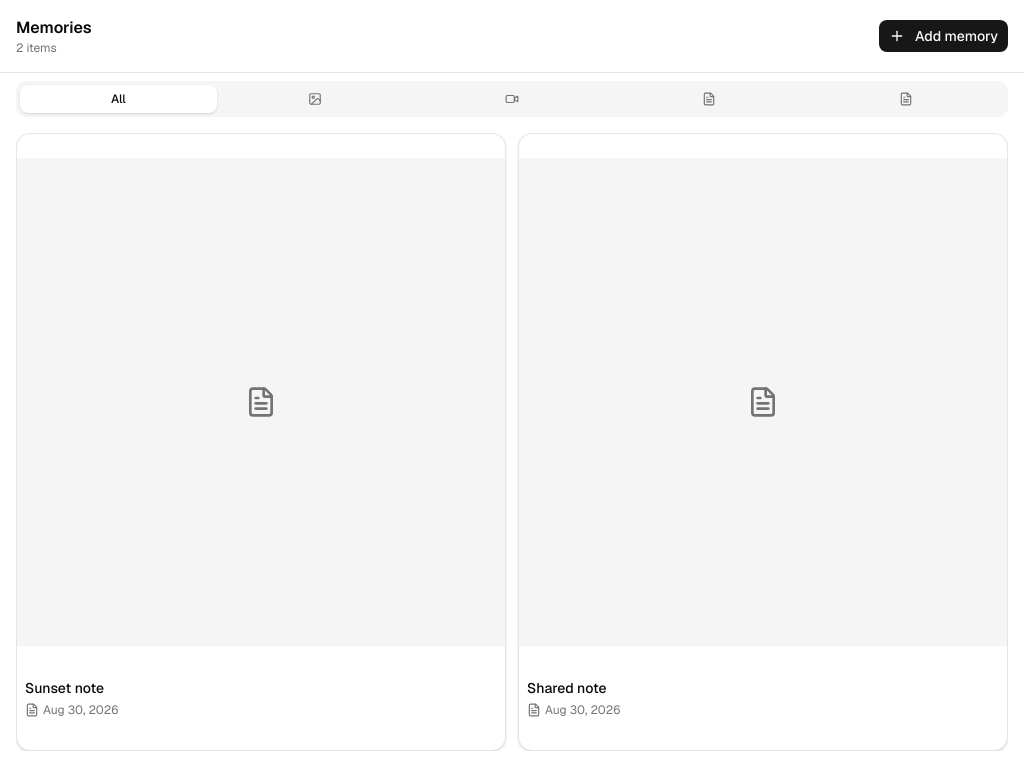
MemoryKeeper deletion permissions › only exposes deletion for memories marked as deletable
Click the button with aria-label "View memory: Shared note" at (763, 442), box [518, 133, 1008, 751]
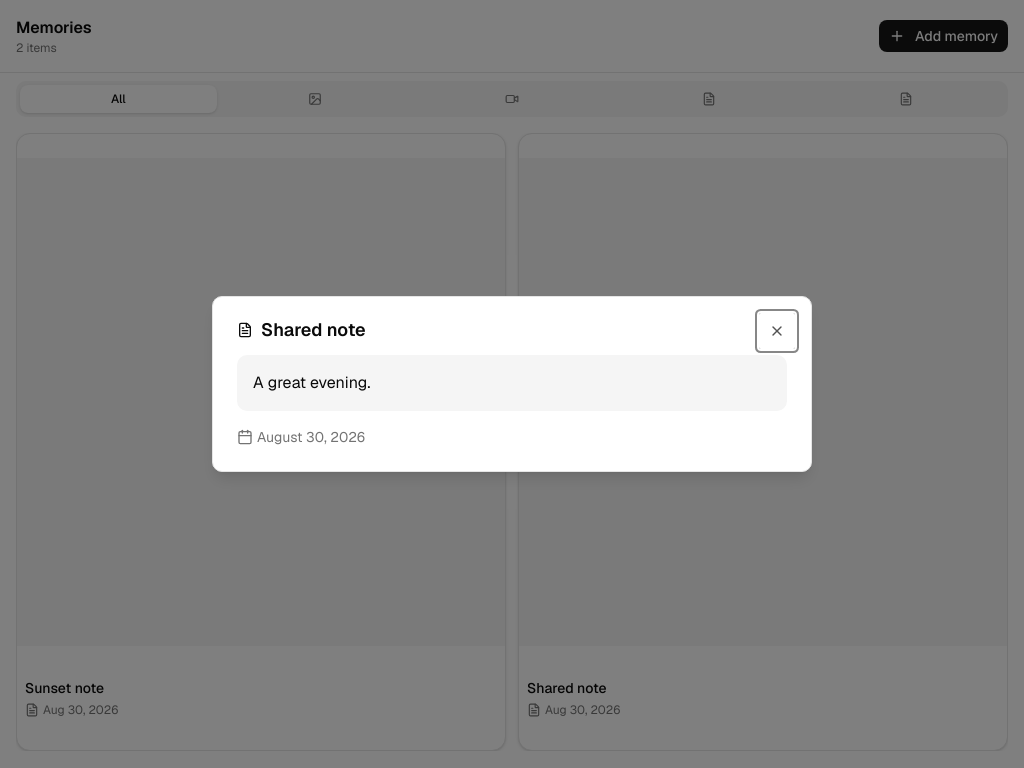
Now the heading "Shared note" is shown, box [236, 318, 366, 350]
